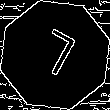L_SW: (29, 26, 81, 84)
